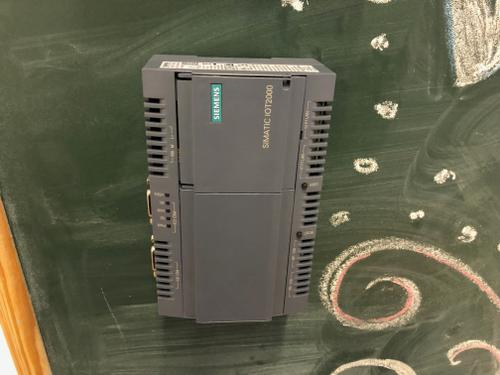device: (141, 54, 336, 323)
